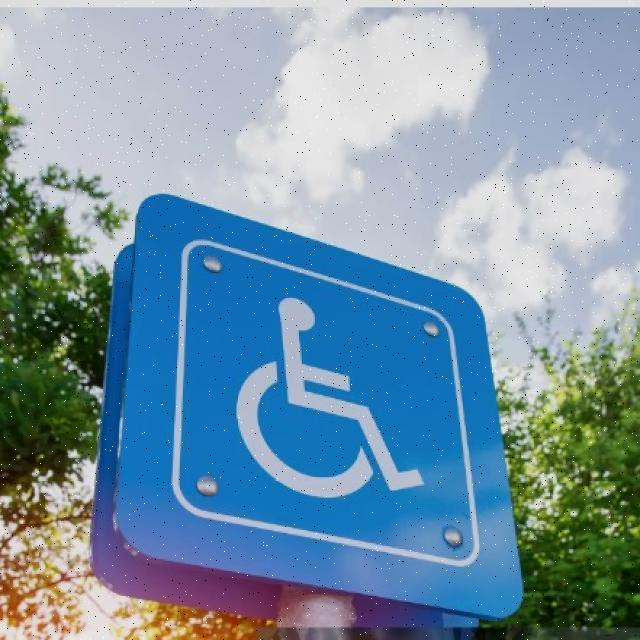symbol_of_access: (111, 190, 528, 621)
